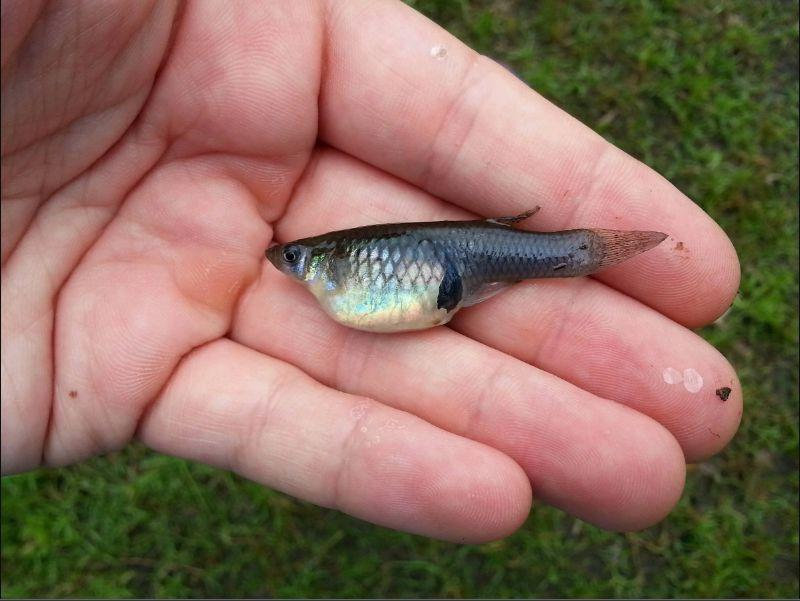Mosquito Fish: (266, 215, 674, 335)
